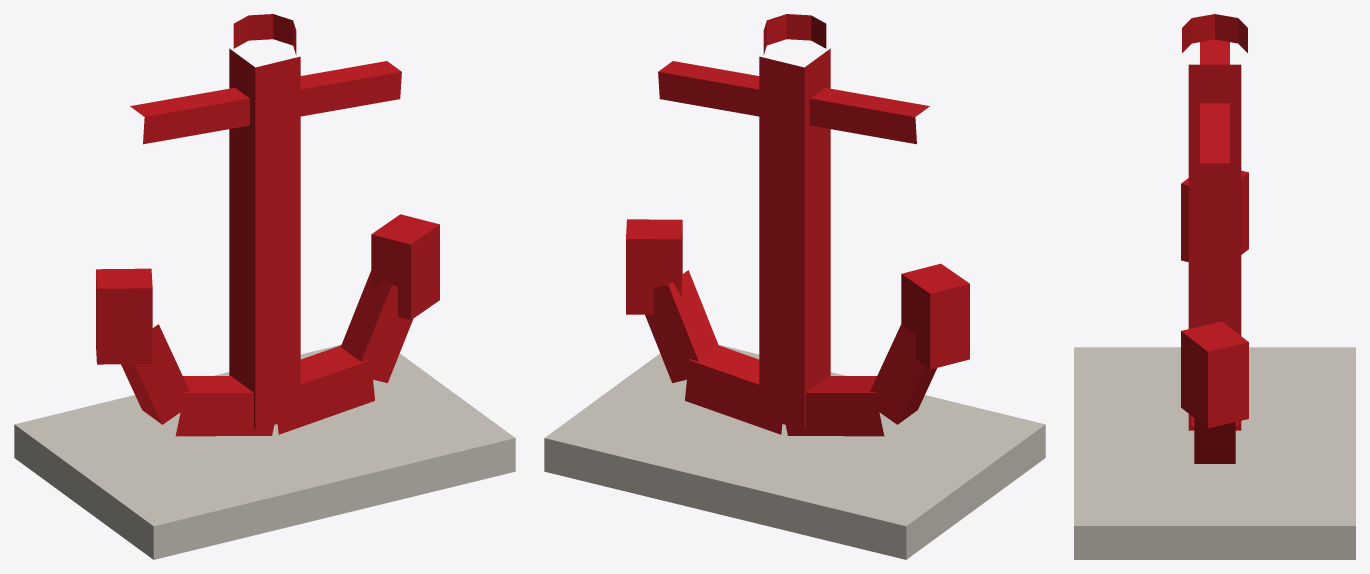
File: redanchor.glb
3 renders of one model, left to right at view 1: azimuth 30°, elevation 25°; view 2: azimuth 150°, elevation 25°; view 3: azimuth 270°, elevation 25°, orthographic.
Parts seen in each view (by area): view 1: redanchor_lod0; view 2: redanchor_lod0; view 3: redanchor_lod0.
Part boxes in pixels (<box>): redanchor_lod0: <box>14,14,515,559</box>; redanchor_lod0: <box>544,14,1045,559</box>; redanchor_lod0: <box>1074,14,1355,559</box>.
Size of what is drawn, in the model's own units: 4.5 by 5.2 by 3.
